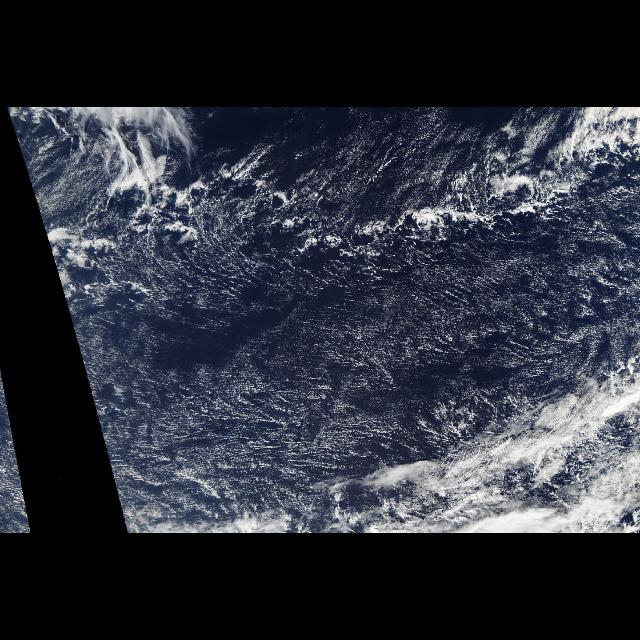Sugar: (127, 252, 419, 474), (434, 237, 640, 389)
